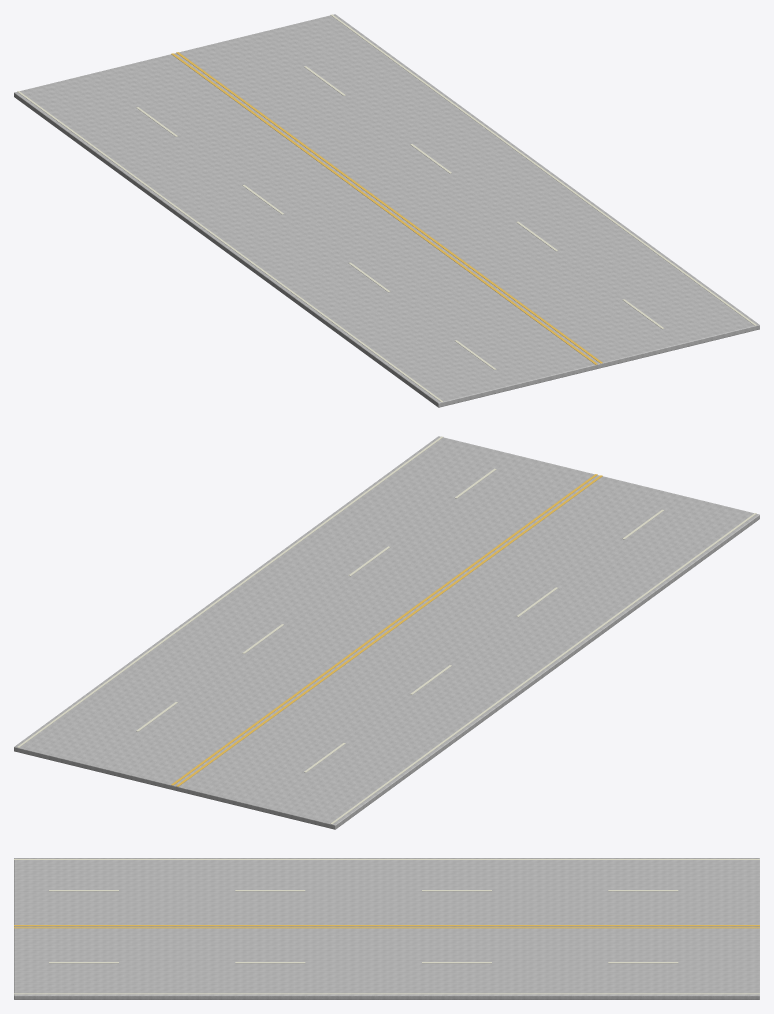
File: road.glb
3 renders of one model, top to bottom at view 1: azimuth 30°, elevation 25°; view 2: azimuth 150°, elevation 25°; view 3: azimuth 270°, elevation 25°, orthographic. The views are drawn at different scales.
Parts seen in each view (by area): view 1: road_body; view 2: road_body; view 3: road_body.
Part boxes in pixels (x1,y1,x2,y2): road_body: (14,14,759,407); road_body: (14,436,759,829); road_body: (14,858,759,999).
Bounding box in the file's own units: 14 × 0.215 × 32.
3 materials, 1 textured.
